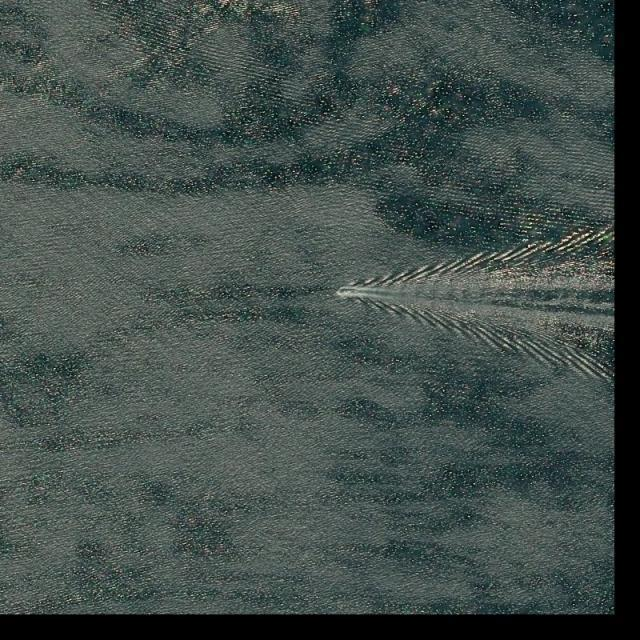ship: (337, 290, 358, 296)
